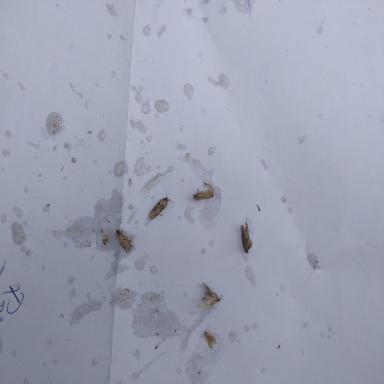pbw: (150, 180, 174, 220), (201, 282, 224, 310), (115, 228, 134, 255), (240, 215, 253, 254), (193, 188, 214, 200)
